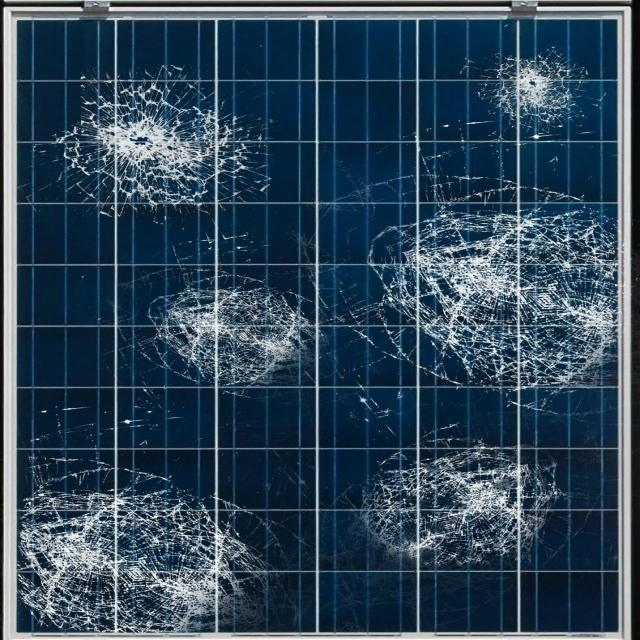faulty: (6, 7, 632, 640)
